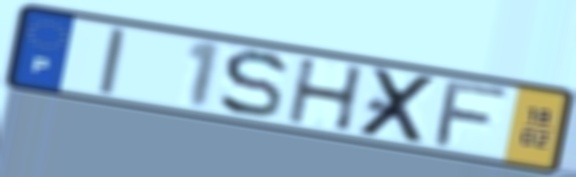1: (182, 39, 225, 111)
F: (428, 79, 516, 150)
H: (285, 56, 368, 134)
I: (95, 25, 130, 98)
S: (216, 47, 291, 121)
X: (353, 66, 443, 147)
